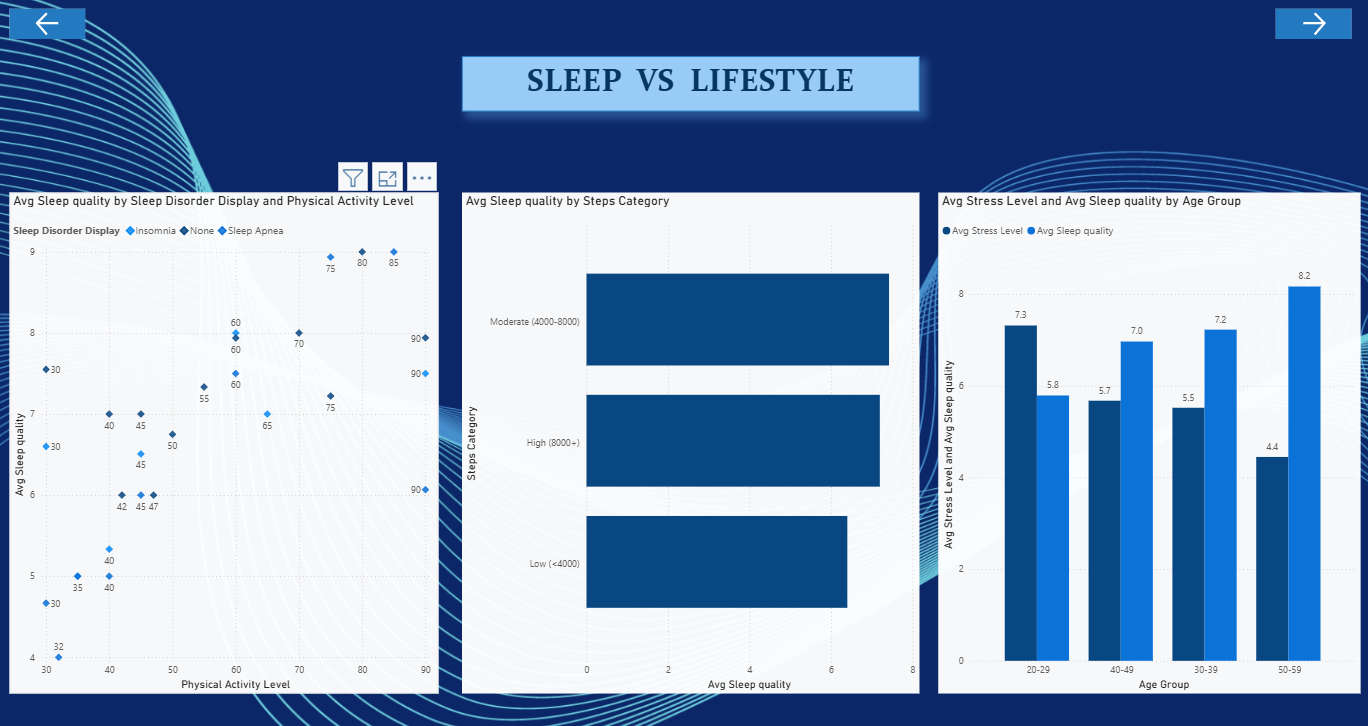

Layout of this report page (visuals, bound fields, positions):
{"tool":"powerbi","page":{"name":"Page 2","canvas":[1685,720],"ordinal":1},"visuals":[{"type":"textbox","box":[644.4,49,437.9,56.8],"z":0},{"type":"scatterChart","fields":{"X":["Sleep_health_and_lifestyle_dataset.Physical Activity Level"],"Series":["Sleep_health_and_lifestyle_dataset.Sleep Disorder Display"],"Y":["Sleep_health_and_lifestyle_dataset.Avg Sleep quality"]},"box":[27.6,156.1,566.4,563.3],"z":1},{"type":"clusteredColumnChart","fields":{"Category":["Sleep_health_and_lifestyle_dataset.Age Group"],"Y":["Sleep_health_and_lifestyle_dataset.Avg Stress Level","Sleep_health_and_lifestyle_dataset.Avg Sleep quality"]},"box":[1215.4,156.1,442.4,563.3],"z":2},{"type":"barChart","fields":{"Category":["Sleep_health_and_lifestyle_dataset.Steps Category"],"Y":["Sleep_health_and_lifestyle_dataset.Avg Sleep quality"]},"box":[610.8,156.1,589.3,563.3],"z":3},{"type":"actionButton","box":[1553.7,29.1,100,40],"z":4},{"type":"actionButton","box":[16.8,24.5,100,40],"z":5}]}

Visuals, with their boxes on the page's 1685x720 design canvas (x1, y1, x2, y2). These are canvas units, not pixel positions in the 1368x726 screenshot, which may show the page scaled, cropped or inside an application window:
textbox: locate(644, 49, 1082, 106)
scatterChart - Sleep_health_and_lifestyle_dataset.Physical Activity Level x Sleep_health_and_lifestyle_dataset.Sleep Disorder Display: locate(28, 156, 594, 719)
clusteredColumnChart - Sleep_health_and_lifestyle_dataset.Age Group x Sleep_health_and_lifestyle_dataset.Avg Stress Level: locate(1215, 156, 1658, 719)
barChart - Sleep_health_and_lifestyle_dataset.Steps Category x Sleep_health_and_lifestyle_dataset.Avg Sleep quality: locate(611, 156, 1200, 719)
actionButton: locate(1554, 29, 1654, 69)
actionButton: locate(17, 24, 117, 64)
